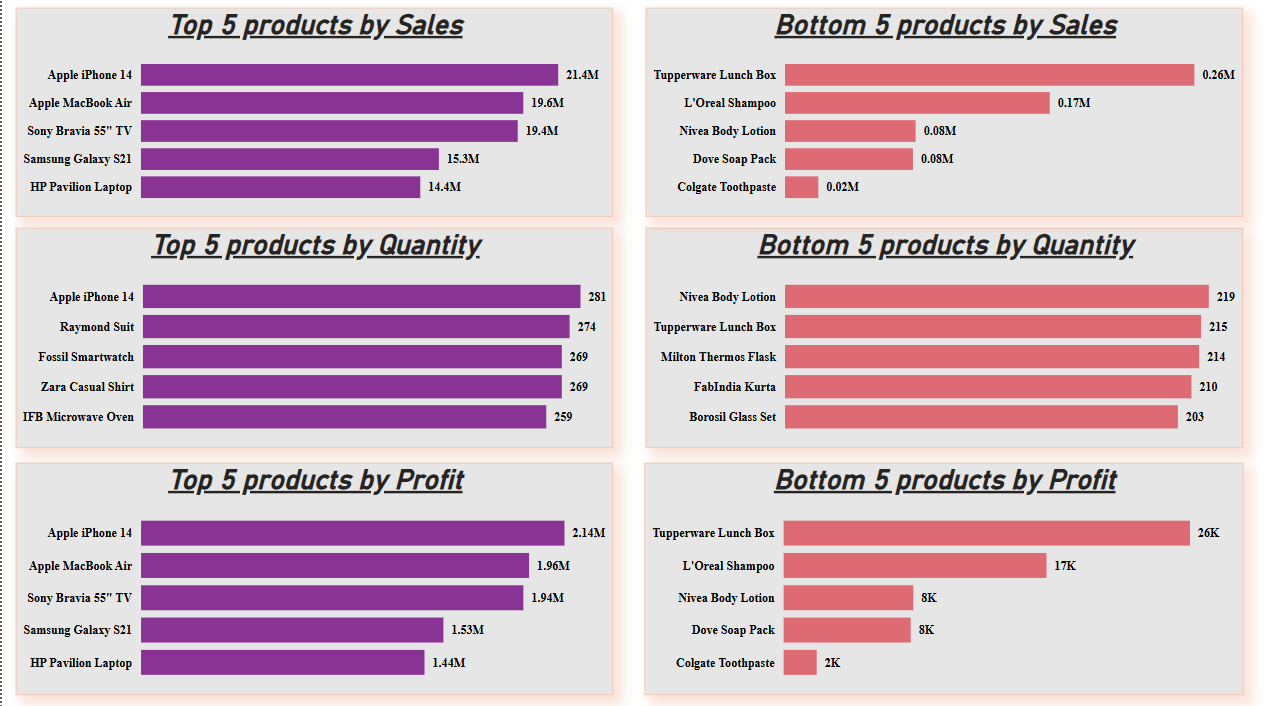

This screenshot's page, from the dashboard's own definition file:
{"tool":"powerbi","page":{"name":"Top Bottom 5 Analysis","canvas":[1280,720],"ordinal":0},"visuals":[{"type":"barChart","title":"Top 5 products by Sales","fields":{"Category":["Dim Product.Product Name"],"Y":["Sum(Fact Table.Net Sales)"]},"box":[13.7,13.7,594.6,207.7],"z":0},{"type":"barChart","title":"Top 5 products by Quantity","fields":{"Category":["Dim Product.Product Name"],"Y":["Sum(Fact Table.Units Sold)"]},"box":[13.7,232.6,594.6,218.9],"z":1000},{"type":"barChart","title":"Bottom 5 products by Quantity","fields":{"Category":["Dim Product.Product Name"],"Y":["Sum(Fact Table.Units Sold)"]},"box":[640.6,232.6,594.6,218.9],"z":2000},{"type":"barChart","title":"Bottom 5 products by Sales","fields":{"Category":["Dim Product.Product Name"],"Y":["Sum(Fact Table.Net Sales)"]},"box":[640.6,13.7,594.6,207.7],"z":3000},{"type":"barChart","title":"Top 5 products by Profit","fields":{"Category":["Dim Product.Product Name"],"Y":["Sum(Fact Table.Profit)"]},"box":[13.7,466.5,594.6,231.4],"z":4000},{"type":"barChart","title":"Bottom 5 products by Profit","fields":{"Category":["Dim Product.Product Name"],"Y":["Sum(Fact Table.Profit)"]},"box":[639.4,466.5,595.9,231.4],"z":5000}]}

Visuals, with their boxes in screenshot pixels (x1, y1, x2, y2), scaled from the page's 1280x720 canvas onto the 1272x706 screenshot:
"Top 5 products by Sales" barChart: [left=14, top=13, right=604, bottom=217]
"Top 5 products by Quantity" barChart: [left=14, top=228, right=604, bottom=443]
"Bottom 5 products by Quantity" barChart: [left=637, top=228, right=1227, bottom=443]
"Bottom 5 products by Sales" barChart: [left=637, top=13, right=1227, bottom=217]
"Top 5 products by Profit" barChart: [left=14, top=457, right=604, bottom=684]
"Bottom 5 products by Profit" barChart: [left=635, top=457, right=1228, bottom=684]
